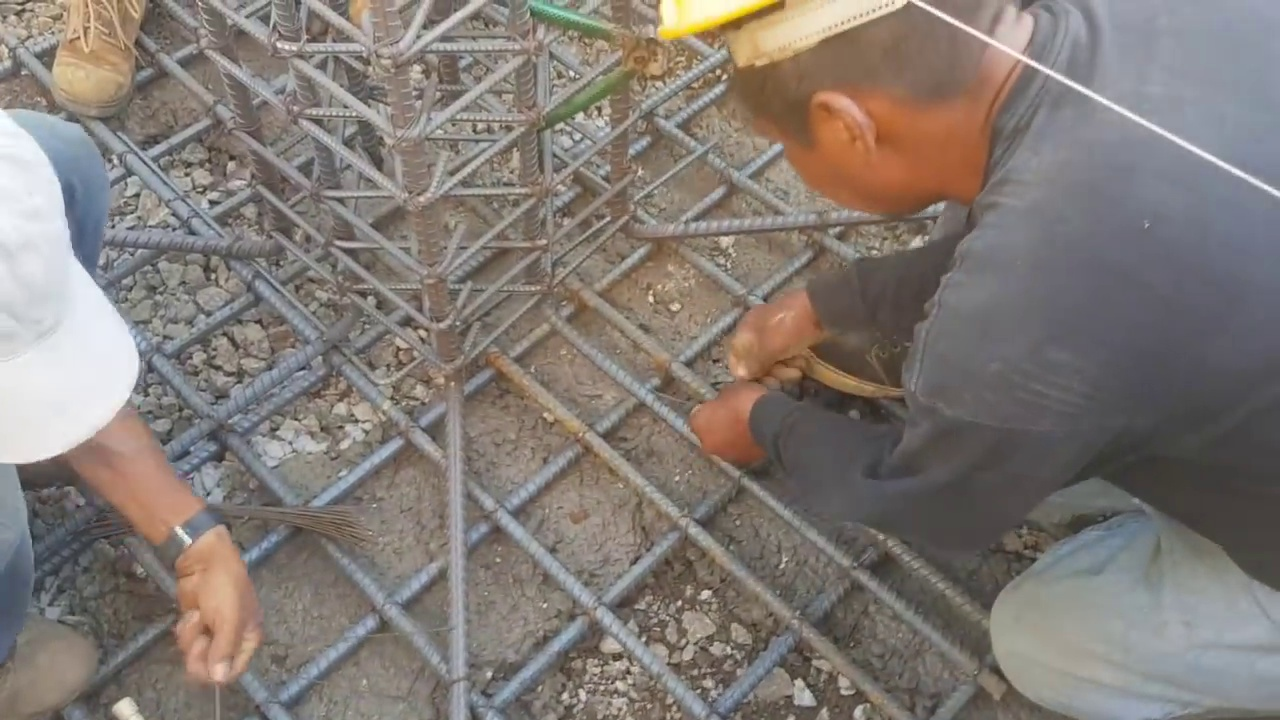helmet-off: (655, 8, 1053, 231), (0, 108, 139, 476)
person: (635, 0, 1280, 718), (0, 105, 262, 720)
